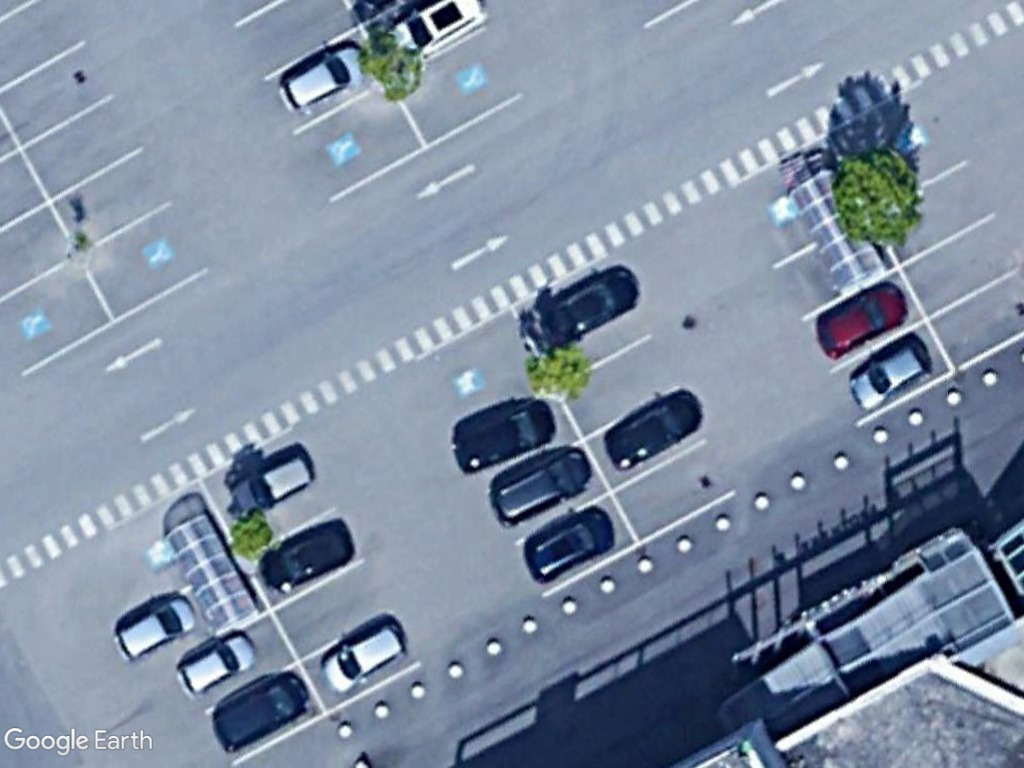car: (600, 387, 706, 472), (533, 262, 640, 345), (489, 445, 591, 528), (809, 282, 912, 364), (449, 400, 557, 475), (521, 503, 618, 584), (256, 520, 357, 594), (272, 41, 365, 120), (846, 337, 937, 413), (319, 617, 408, 694), (109, 592, 199, 665), (174, 628, 260, 698), (230, 448, 316, 517)
van: (209, 669, 310, 756)
